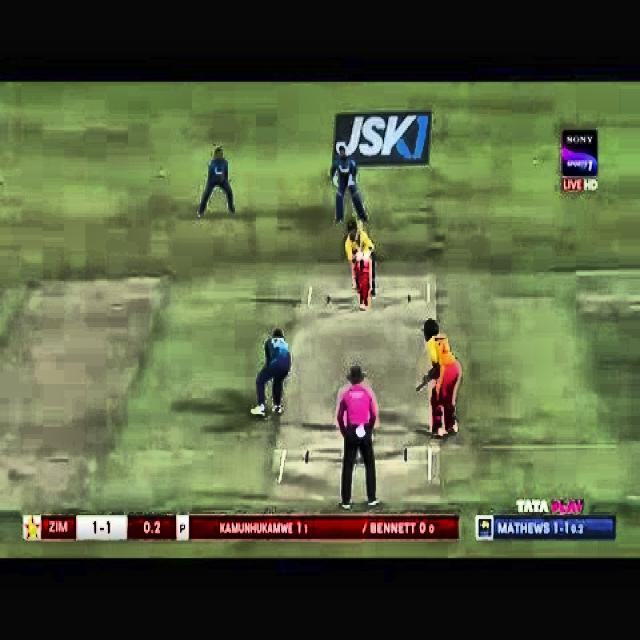Right-stump: (372, 254, 374, 295)
